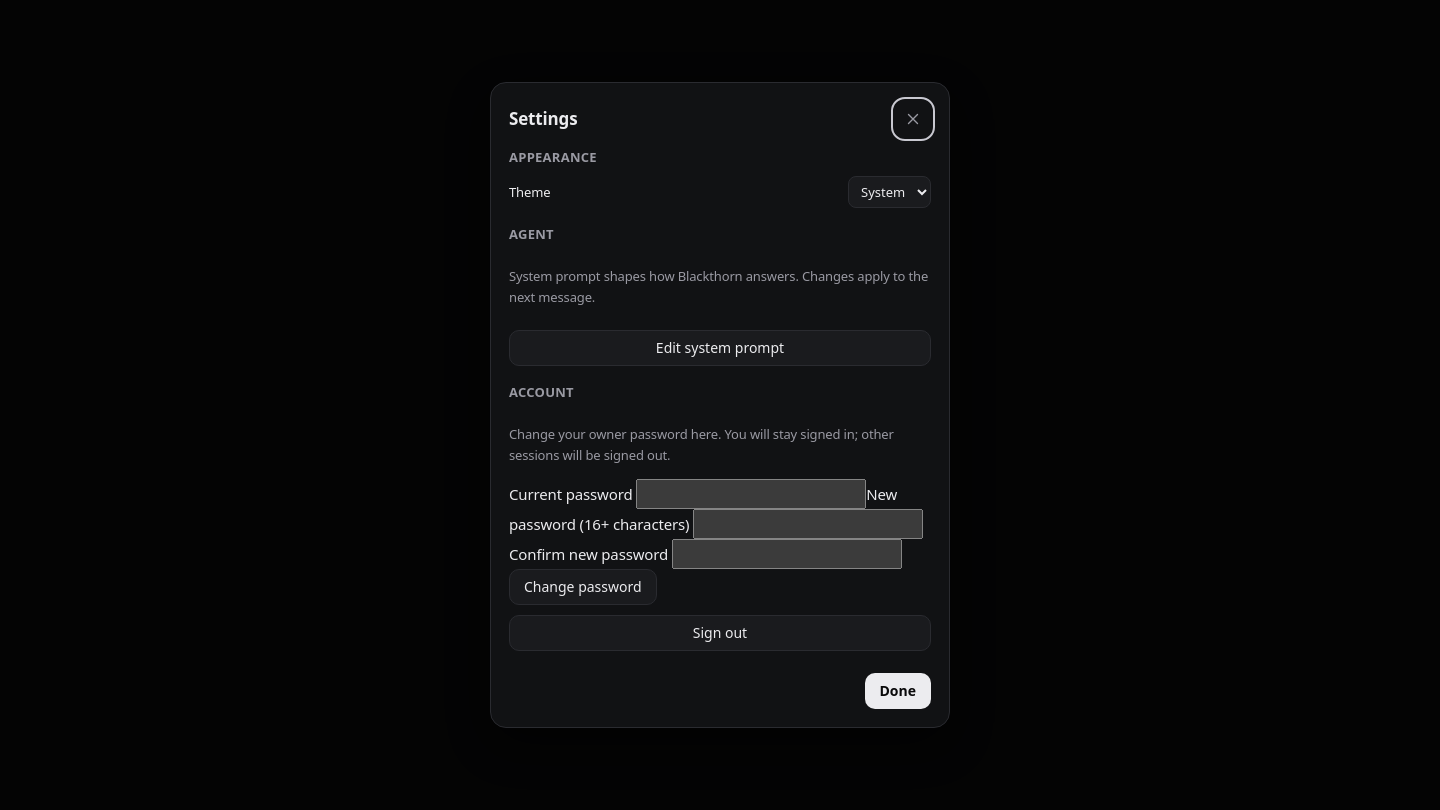
password settings › keeps fields and reports errors when the server rejects the change
The image size is (1440, 810).
Step 1. Type "old-password-123456" into the password field labelled "Current password" → (751, 494), box [636,479,866,509]
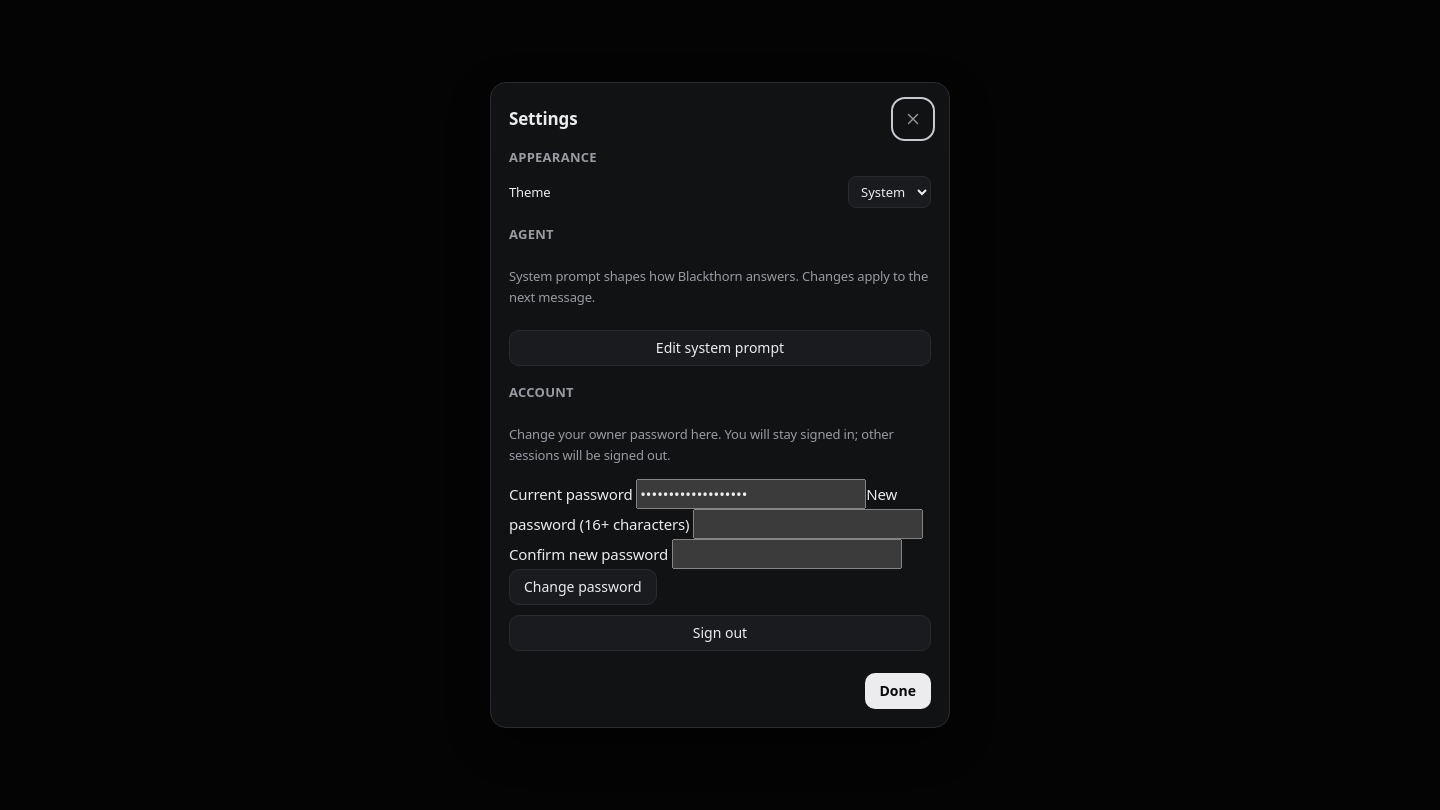
Step 2. Type "a-strong-new-password-123456" into the password field labelled "New password (16+ characters)" → (808, 524), box [693,509,923,539]
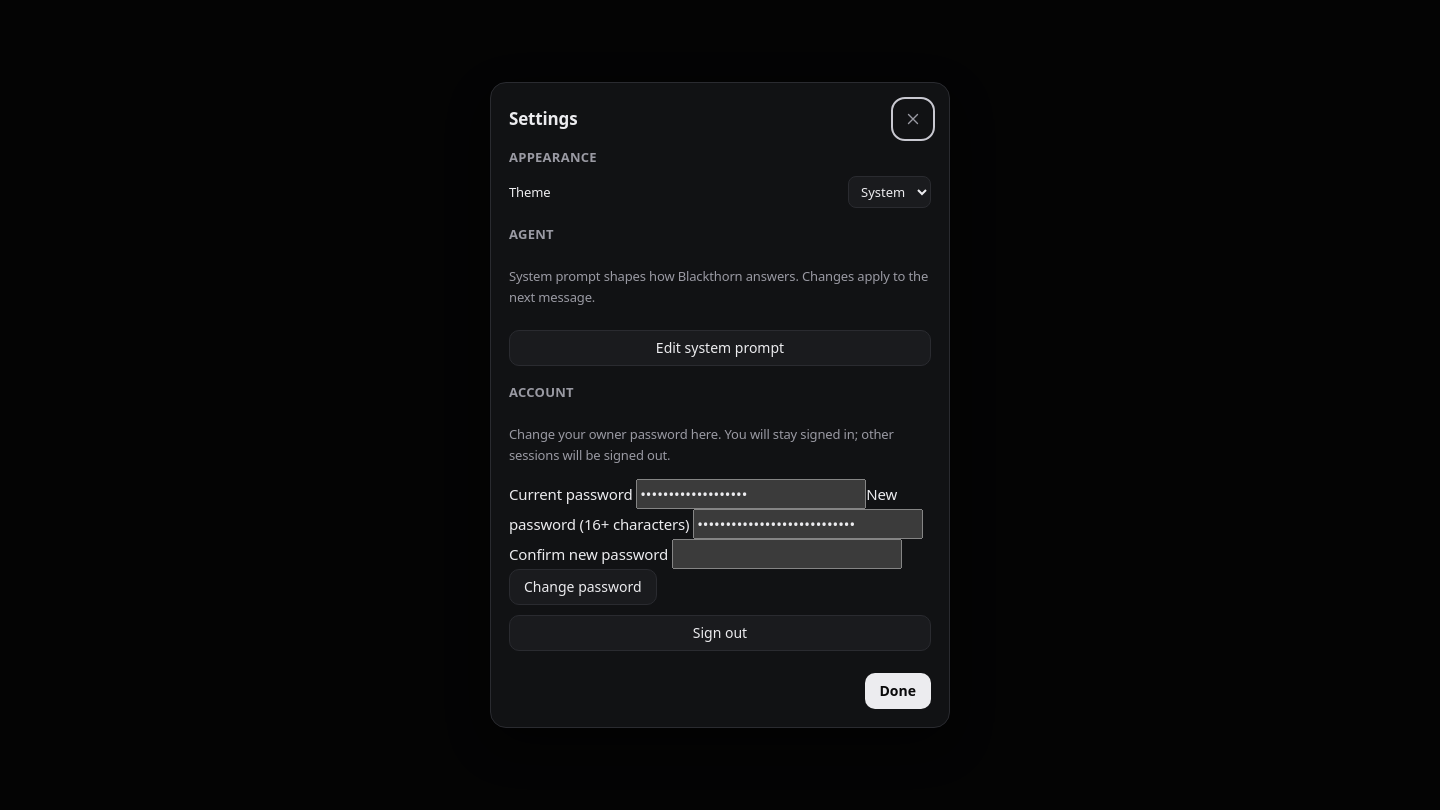
Step 3. Type "a-strong-new-password-123456" into the password field labelled "Confirm new password" → (787, 554), box [672,539,902,569]
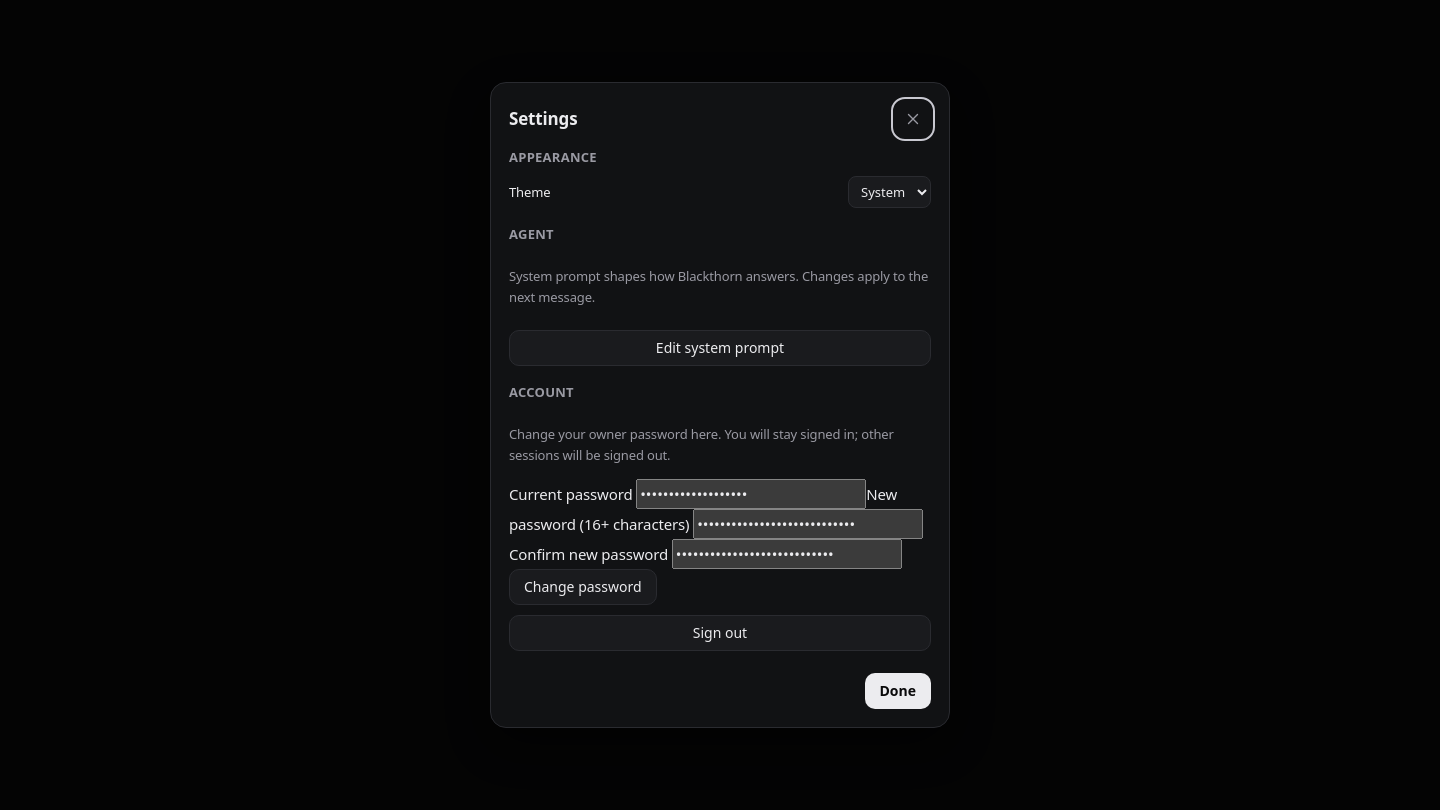
Step 4. Click the button "Change password" → click(583, 587), box [509,569,657,605]
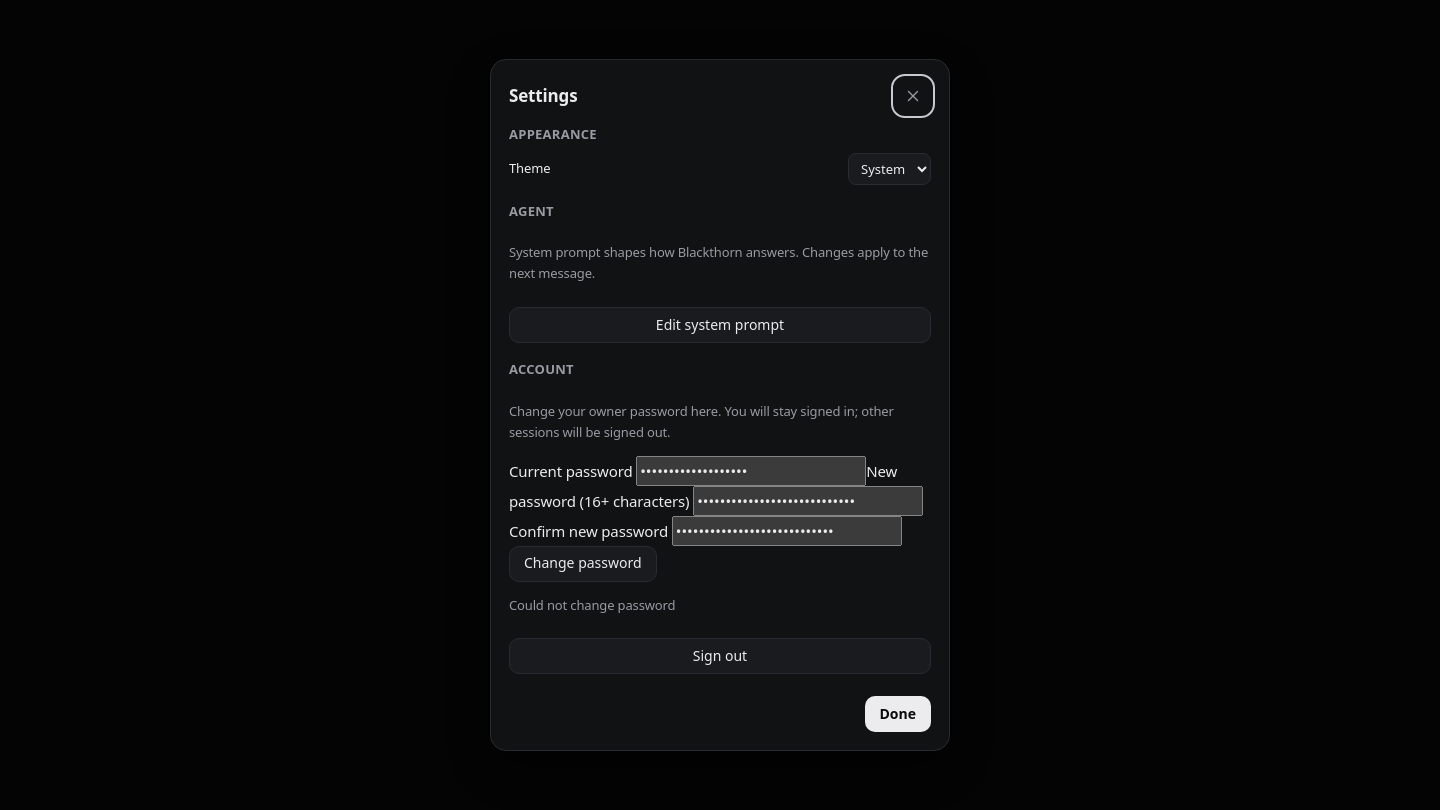
Expected: the message reads "Could not change password", [509,596,675,614]
